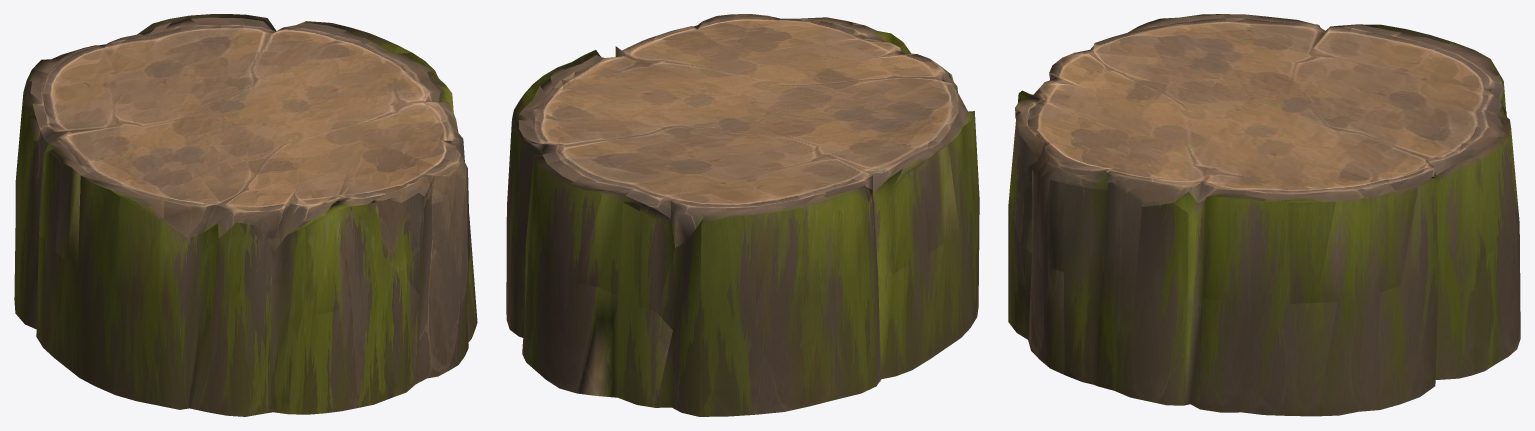
Rendered from grotto-floor.glb.
3 views of the same model, side by side, from view 1: azimuth 30°, elevation 25°; view 2: azimuth 150°, elevation 25°; view 3: azimuth 270°, elevation 25° (orthographic). The views are drawn at different scales.
Parts seen in each view (by area): view 1: Grotto_floor_LOD0; view 2: Grotto_floor_LOD0; view 3: Grotto_floor_LOD0.
Part boxes in pixels (bbox=[...]): Grotto_floor_LOD0: bbox=[14, 14, 477, 416]; Grotto_floor_LOD0: bbox=[506, 14, 979, 416]; Grotto_floor_LOD0: bbox=[1008, 14, 1520, 416].
Size of what is drawn, in the model's own units: 20 by 10 by 22.
Materials: 1 (1 with a texture image).
